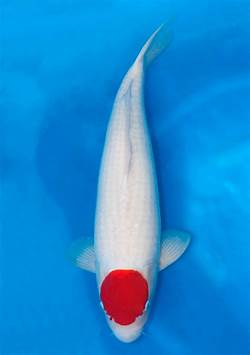sun: (68, 19, 191, 345)
